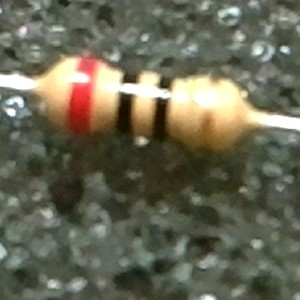black_band: (110, 68, 143, 135), (148, 73, 177, 143)
gold_band: (191, 75, 223, 155)
red_band: (60, 55, 104, 135)
